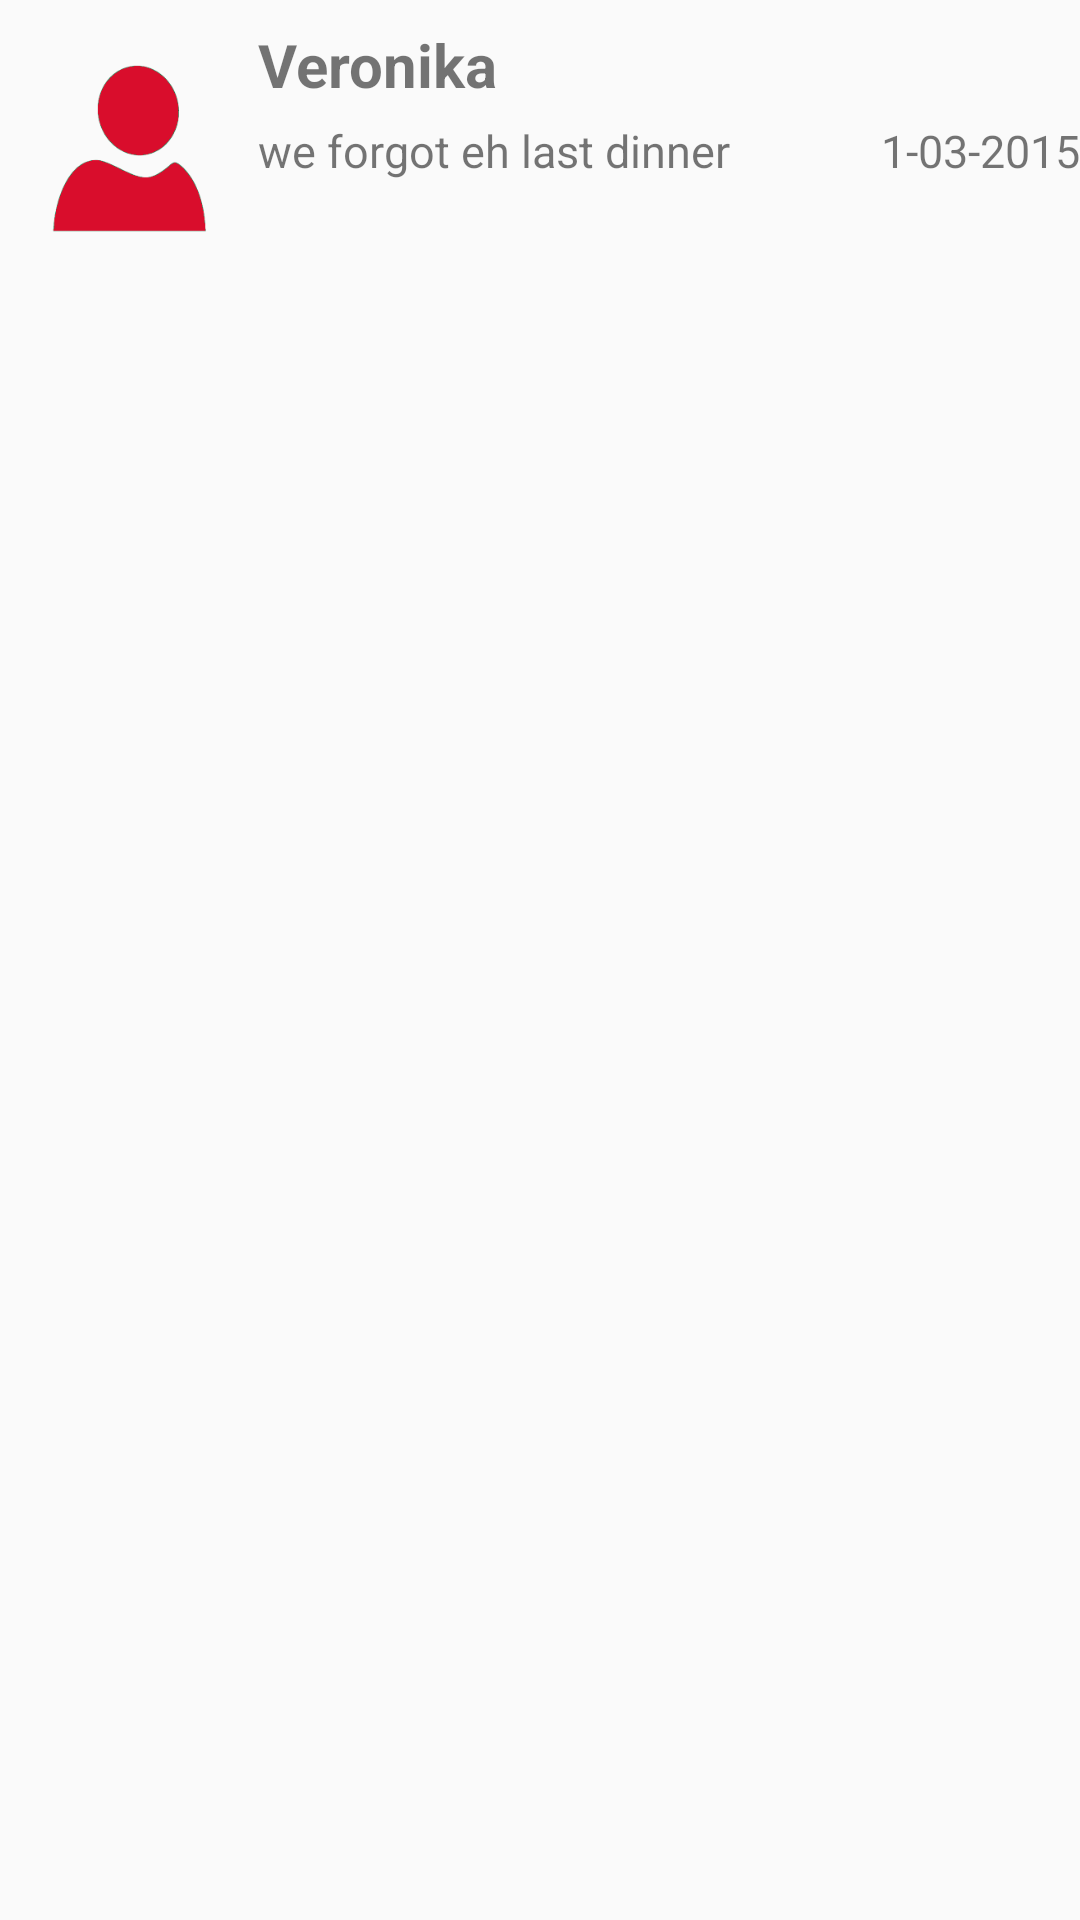

Named icons in this screenshot (1080×1920) and their bounding boxes, (x1, y1, x2, y2):
no user: (53, 65, 206, 232)
